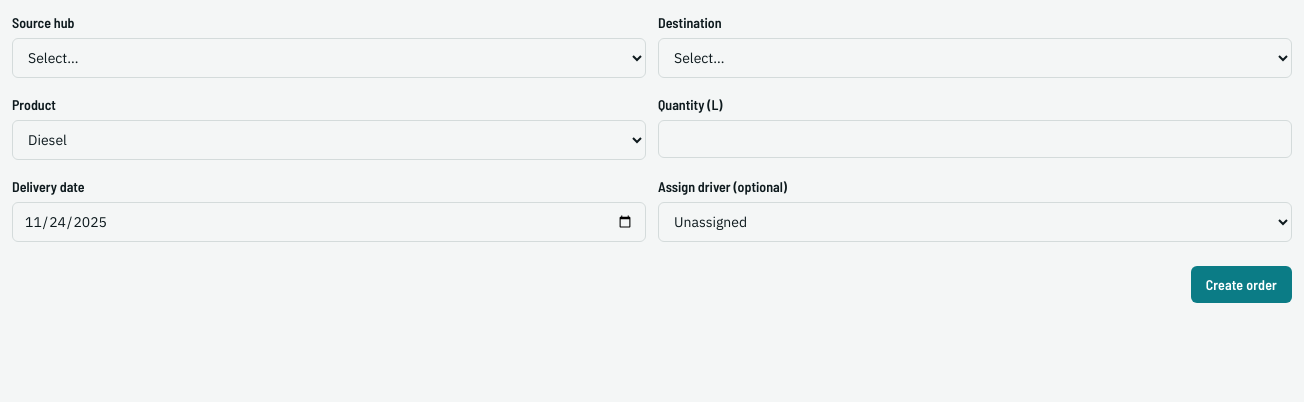
Scenario: OrderForm › confirms when the source hub can cover the order
The width and height of the screenshot is (1304, 402).
Select "Downtown" in the dropdown labelled "Source hub" at [329, 58], box [12,38,646,78]
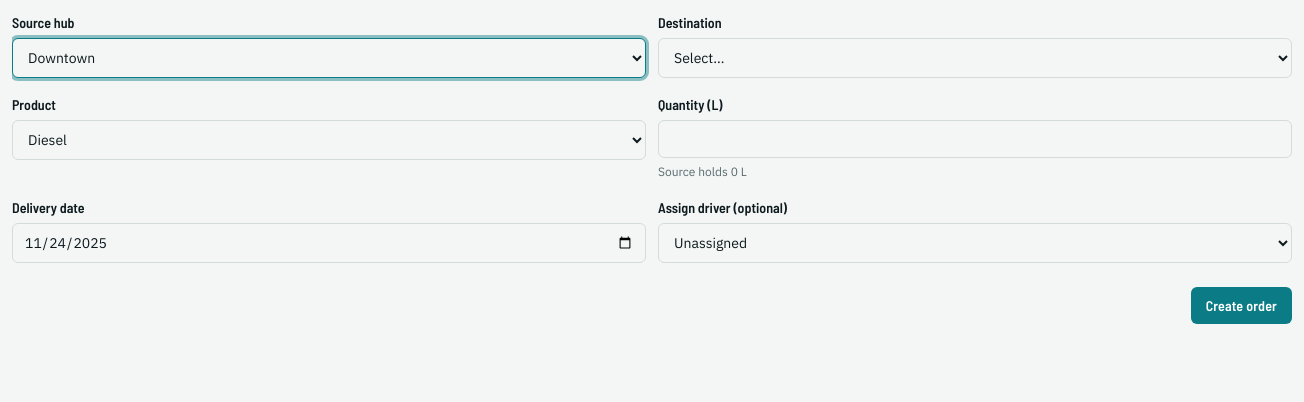
Select "Diesel" in the dropdown labelled "Product" at [329, 140], box [12,120,646,160]
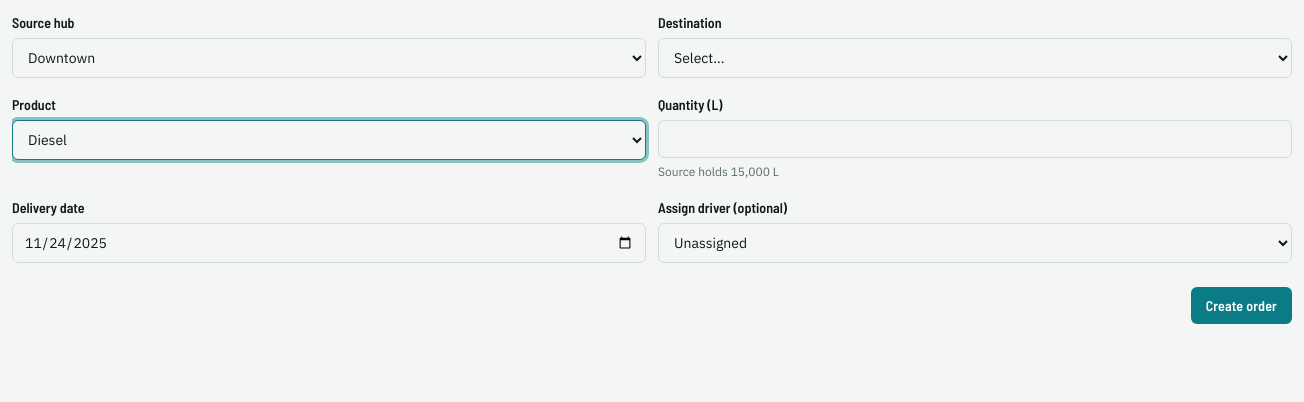
Type "5000" into the number field labelled "Quantity (L) Source holds 15,000 L".
click(975, 139); type("5000")  # box [658,120,1292,158]
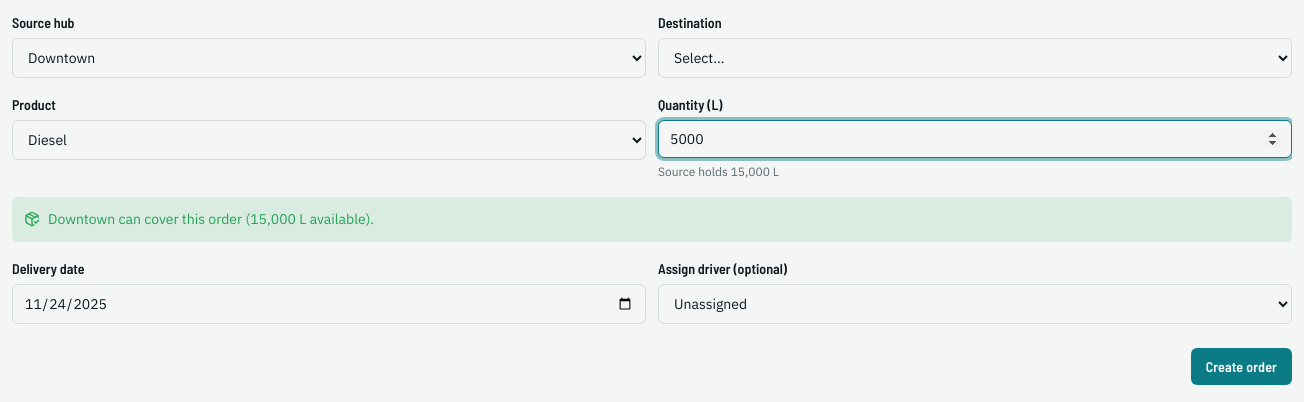
Now the text "Downtown can cover this order (15,000 L available)." is shown, box [48,209,374,230]
